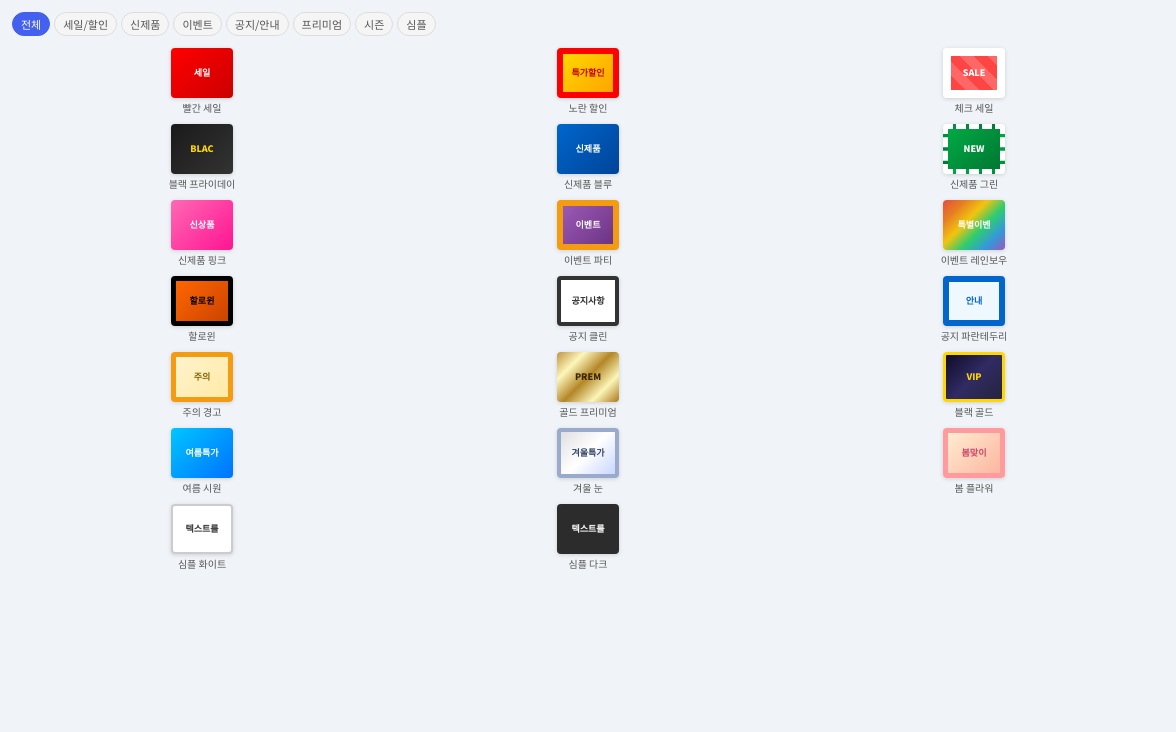
TemplatePanel — 카테고리 필터 › 카테고리 탭을 클릭하면 해당 카테고리 템플릿만 표시된다
The image size is (1176, 732).
Click the button "세일/할인" at x=86, y=24, box [54,12,117,36]
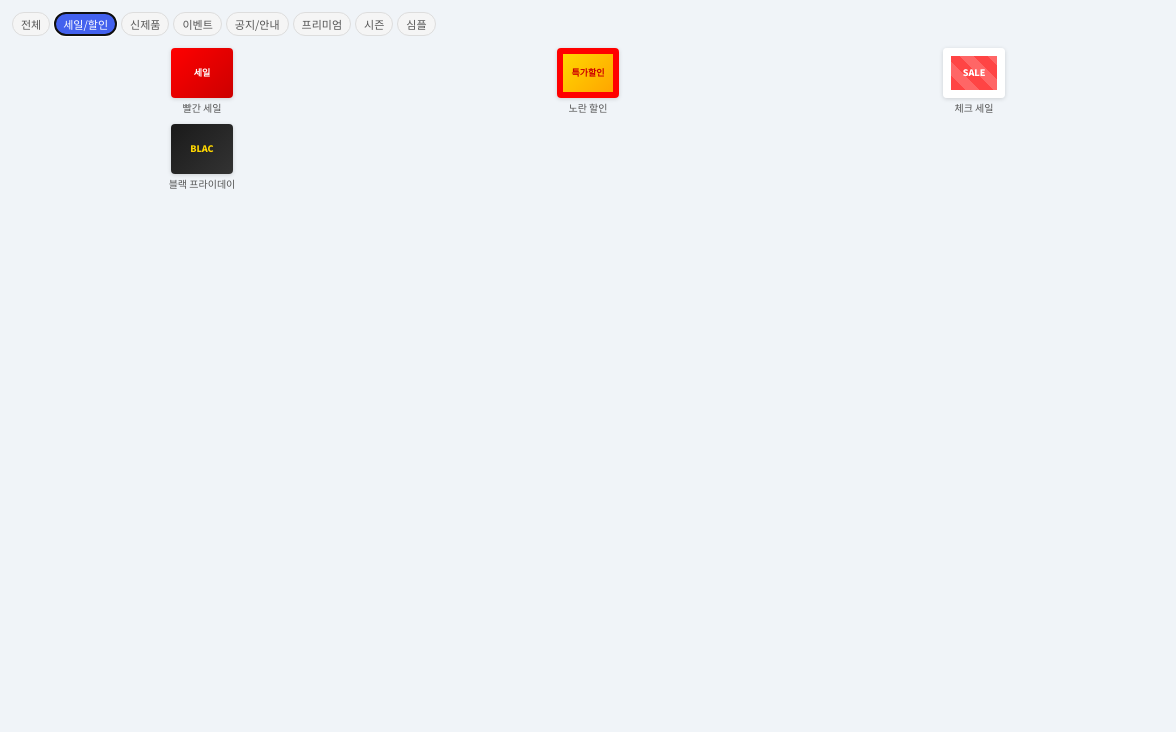
expect the button titled "신제품 블루" is gone: met
expect the button titled "신제품 그린" is gone: met
expect the button titled "신제품 핑크" is gone: met
